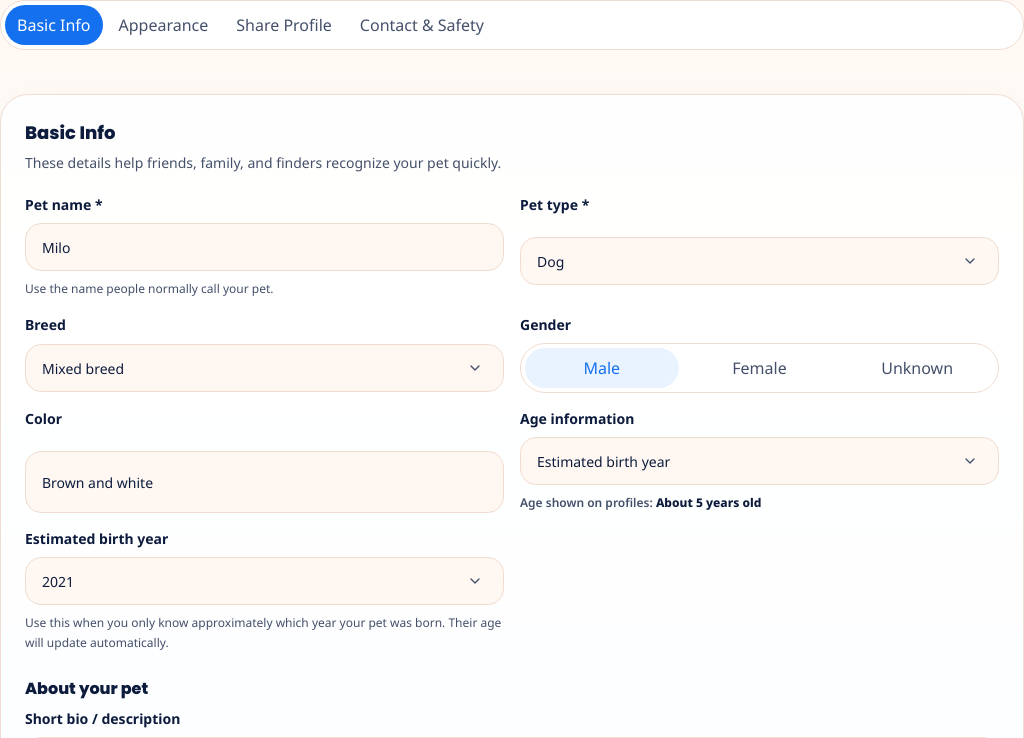
PetProfileForm Sharing and Contact mobile UX › loads an existing useOwnerDefaults=true pet without mutating it
What coordinates should you click on to do the following:
click the tab "Contact & Safety"
I would click on:
 (422, 25)
Its box is [348,5,496,45].
(page scrolled)
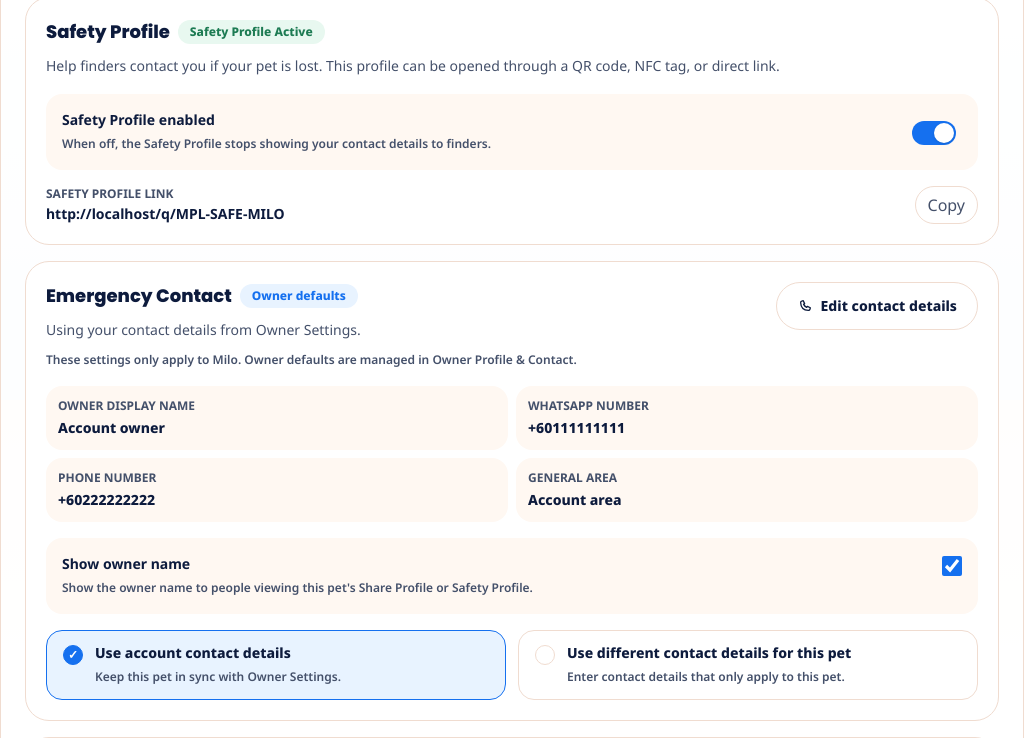
Result: the text "Account owner" is shown at [58,418,165,437]
